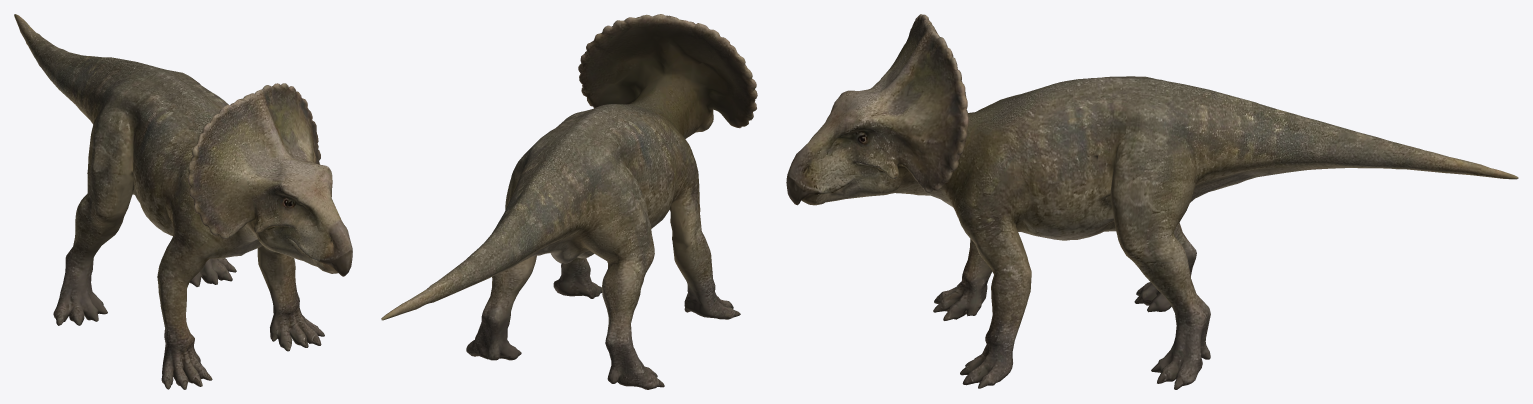
Rendered from protoceratops.glb.
3 renders of one model, left to right at view 1: azimuth 30°, elevation 25°; view 2: azimuth 150°, elevation 25°; view 3: azimuth 270°, elevation 25°, orthographic. The views are drawn at different scales.
Parts seen in each view (by area): view 1: dino; view 2: dino; view 3: dino.
Part boxes in pixels (x1,y1,x2,y2): dino: (14,14,352,389); dino: (381,14,757,389); dino: (786,14,1518,389).
Size of the model in its own units: 0.6619 by 0.9471 by 2.
Materials: 1 (1 with a texture image).
